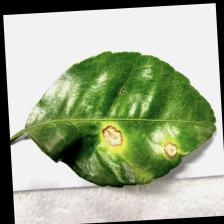canker: (92, 116, 186, 182)
